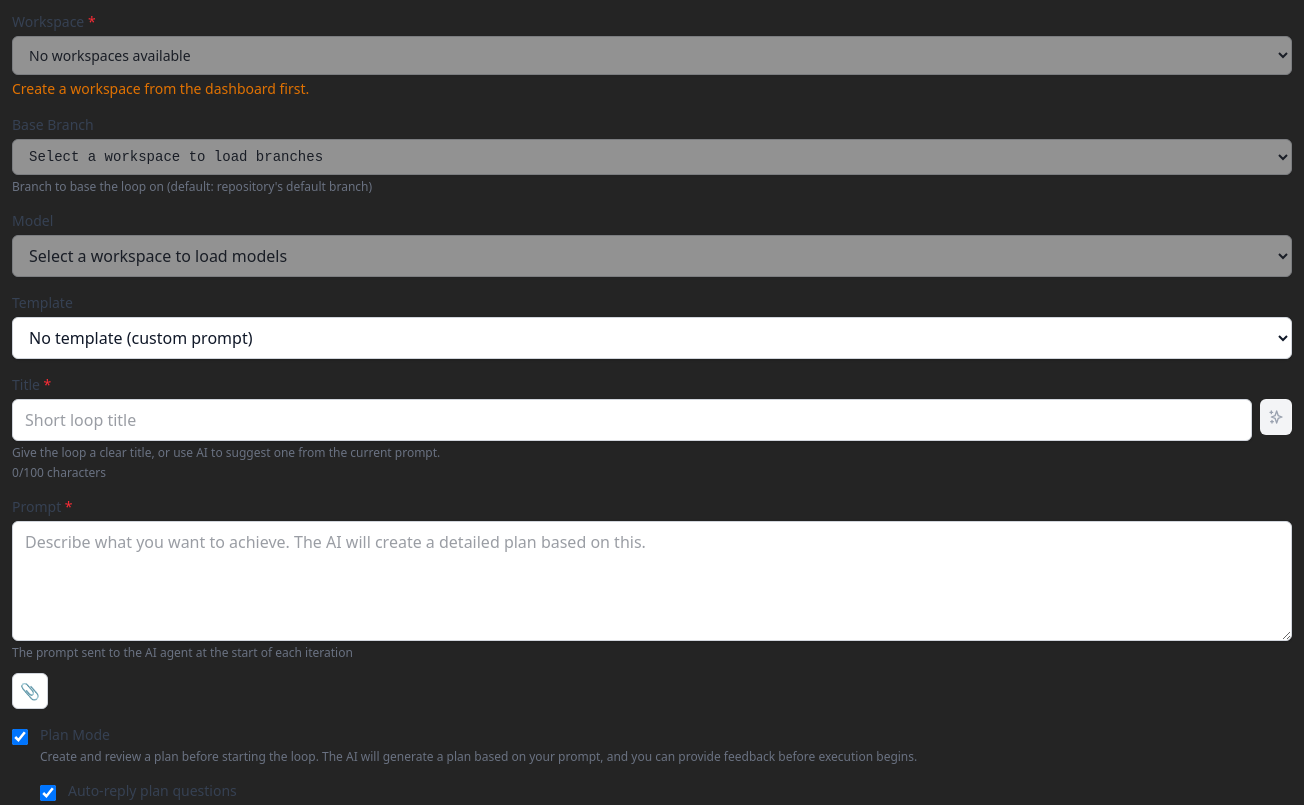
Test: CreateLoopForm › basic rendering › renders title character counter
Expected: the text "0/100 characters" is shown, [12,464,106,481]
Type "Loop title" into the field labelled "Title *" at x=632, y=420, box [12,399,1252,441]
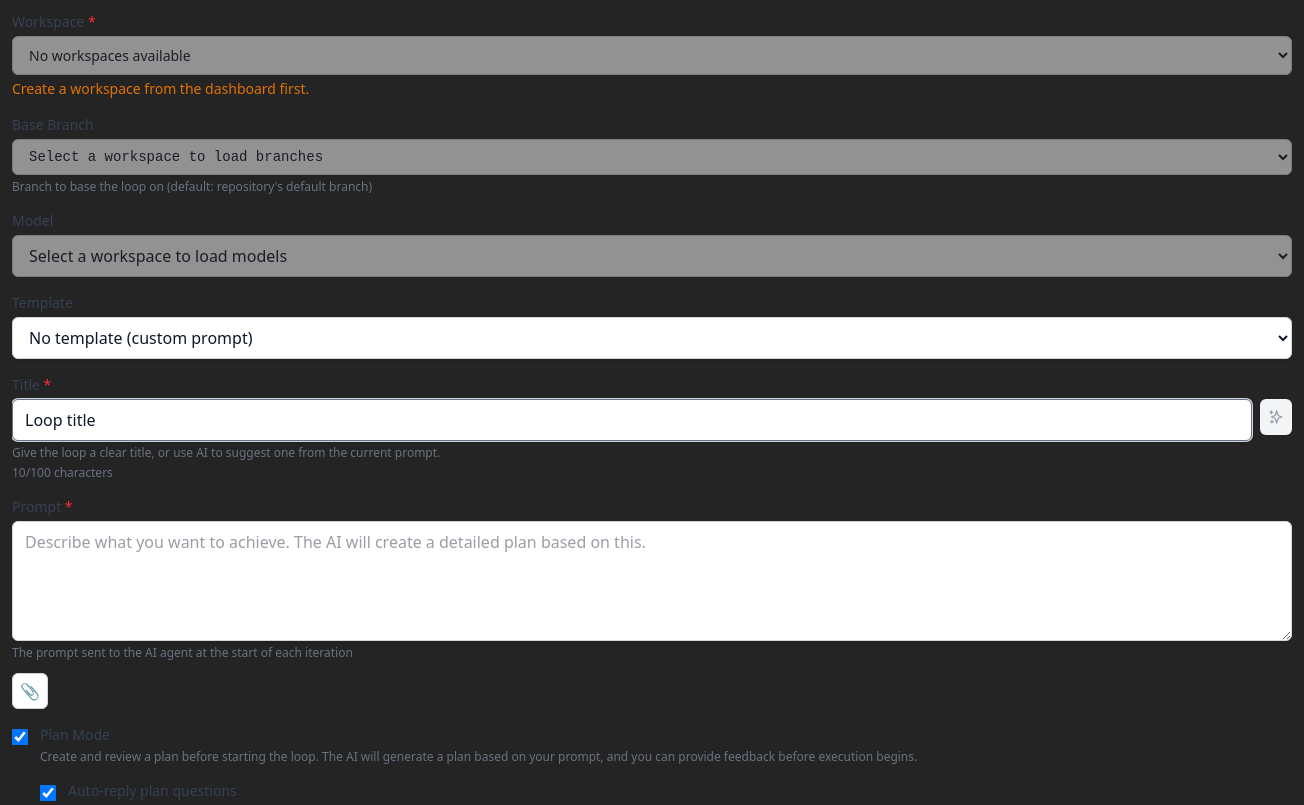
Expected: the text "10/100 characters" is shown, [12,464,113,481]
